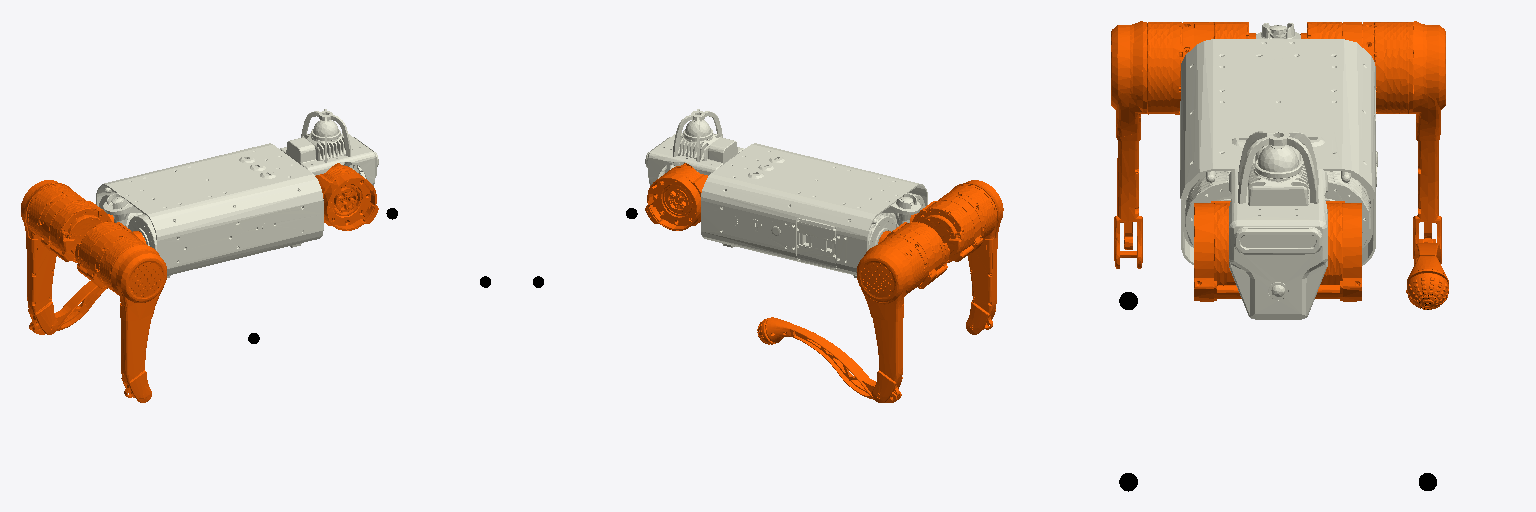
URDF robot description (E15_strict_CAD_aligned):
<?xml version='1.0' encoding='UTF-8'?>
<robot name="E15_strict_CAD_aligned">
  <mujoco>
  <compiler meshdir="../meshes" discardvisual="false"/>
  </mujoco>
  <!-- Collision primitives replaced from /home/user/quad48 on 2026-07-23; visuals, joints, masses, COMs and inertias are unchanged. -->
  <!-- Strictly aligned to E15V1&#19996;&#39118;URDF-20260714.docx and the supplied local-coordinate CAD STL files on 2026-07-17. -->
  <material name="black">
    <color rgba="0.0 0.0 0.0 1.0"/>
  </material>
  <material name="blue">
    <color rgba="0.0 0.0 0.8 1.0"/>
  </material>
  <material name="green">
    <color rgba="0.0 0.8 0.0 1.0"/>
  </material>
  <material name="grey">
    <color rgba="0.2 0.2 0.2 1.0"/>
  </material>
  <material name="silver">
    <color rgba="0.9137254901960784 0.9137254901960784 0.8470588235294118 1.0"/>
  </material>
  <material name="orange">
    <color rgba="1.0 0.4235294117647059 0.0392156862745098 1.0"/>
  </material>
  <material name="brown">
    <color rgba="0.8705882352941177 0.8117647058823529 0.7647058823529411 1.0"/>
  </material>
  <material name="red">
    <color rgba="0.8 0.0 0.0 1.0"/>
  </material>
  <material name="white">
    <color rgba="1.0 1.0 1.0 1.0"/>
  </material>
  <material name="payload_dark">
    <color rgba="0.05 0.06 0.065 0.85"/>
  </material>
  <!-- SolidWorks inertia tensors use the set reported as: about the center of mass and aligned with Coordinate System 1. -->
  <link name="world"/>
  <joint name="floating_base_joint" type="floating">
      <parent link="world"/>
      <child link="trunk"/>
  </joint>
  <link name="trunk">
    <visual>
      <origin rpy="0 0 0" xyz="0 0 0"/>
      <geometry>
        <mesh filename="../meshes/e15_trunk_with_radar.STL" scale="1 1 1"/>
      </geometry>
      <material name="silver"/>
    </visual>
    <!--Collision primitive copied from quad48; detailed E15 CAD remains visual-only.-->
    <collision>
      <origin rpy="0 0 0" xyz="0 0 0"/>
      <geometry>
        <box size="0.342 0.22 0.11"/>
        <!-- <box size="0.301 0.2 0.11"/> -->
      </geometry>
    </collision>
    <collision name="front_narrow_vertical_plate_collision">
      <origin rpy="0 0 0" xyz="0.3 0 0.01"/>
      <geometry>
        <box size="0.018 0.115 0.10"/>
      </geometry>
    </collision>
    <inertial>
      <origin rpy="0 0 0" xyz="0.007453 0.002493 0.005813"/>
      <mass value="8.155032"/>
      <inertia ixx="0.033809207" ixy="0.001824472" ixz="-0.010200345" iyy="0.161449800" iyz="0.000173116" izz="0.174466658"/>
    </inertial>
  </link>
  <!-- Visual meshes and supplied mass properties are CAD-aligned. Collision primitives remain simplified for simulation stability. -->
  <!-- Imu is fixed to the base link -->
  <joint name="imu_link_joint" type="fixed">
    <origin rpy="0. 0. 0." xyz="0. 0. 0."/>
    <parent link="trunk"/>
    <child link="imu_link"/>
  </joint>
  <!-- Imu link -->
  <link name="imu_link">
    <!-- Massless coordinate frame: the physical IMU is already included in the supplied assembly mass. -->
    <visual>
      <origin rpy="0 0 0" xyz="0 0 0"/>
      <geometry>
        <box size="0.015 0.015 0.004"/>
      </geometry>
      <material name="orange">
        <color rgba="255 108 10 255"/>
      </material>
    </visual>
  </link>
  <gazebo reference="imu_link">
    <material>Gazebo/Orange</material>
  </gazebo>
  <joint name="FR_hip_joint" type="revolute">
    <origin rpy="0 0 0" xyz="0.229200 -0.050000 0"/>
    <parent link="trunk"/>
    <child link="FR_hip"/>
    <axis xyz="1 0 0"/>
    <dynamics damping="0" friction="0"/>
    <limit effort="48" lower="-0.6108652381980153" upper="0.6108652381980153" velocity="18.4"/>
  </joint>
  <link name="FR_hip">
    <visual>
      <origin rpy="0 0 0" xyz="0 0 0"/>
      <geometry>
        <mesh filename="../meshes/e15_FR_hip.STL" scale="1 1 1"/>
      </geometry>
      <material name="orange"/>
    </visual>
    <inertial>
      <origin rpy="0 0 0" xyz="-0.003296 -0.003877 -0.000426"/>
      <mass value="0.984205"/>
      <inertia ixx="0.000762" ixy="0.000032" ixz="0.000021" iyy="0.001383" iyz="-0.000007" izz="0.000951"/>
    </inertial>
  </link>
  <joint name="FR_thigh_joint" type="revolute">
    <origin rpy="0 0 0" xyz="0 -0.110050 0"/>
    <parent link="FR_hip"/>
    <child link="FR_thigh"/>
    <axis xyz="0 -1 0"/>
    <dynamics damping="0" friction="0"/>
    <limit effort="48" lower="-3.6651914291880923" upper="0.5235987755982988" velocity="18.4"/>
  </joint>
  <link name="FR_thigh">
    <visual>
      <origin rpy="0 0 0" xyz="0 0 0"/>
      <geometry>
        <mesh filename="../meshes/e15_FR_thigh.STL" scale="1 1 1"/>
      </geometry>
      <material name="orange"/>
    </visual>
    <!-- The proximal cylinder is merged into the thigh collision, so the side-swing hip carries no separate collider. -->
    <collision>
      <origin rpy="0 1.5707963267948966 0" xyz="-0.017 0 -0.13"/>
      <geometry>
        <box size="0.14 0.0245 0.034"/>
      </geometry>
    </collision>
    <collision>
      <origin rpy="1.5707963267948966 0 0" xyz="0 0.045 0"/>
      <geometry>
        <cylinder length="0.126667" radius="0.045"/>
      </geometry>
    </collision>
    <inertial>
      <origin rpy="0 0 0" xyz="-0.002604 0.027090 -0.022630"/>
      <mass value="1.485935"/>
      <inertia ixx="0.006399" ixy="-0.000121" ixz="-0.000346" iyy="0.006318" iyz="-0.000938" izz="0.001657"/>
    </inertial>
  </link>
  <joint name="FR_calf_joint" type="revolute">
    <origin rpy="0 0 0" xyz="0 0 -0.220230"/>
    <parent link="FR_thigh"/>
    <child link="FR_calf"/>
    <axis xyz="0 -1 0"/>
    <dynamics damping="0" friction="0"/>
    <limit effort="48" lower="0.7853981633974483" upper="2.7925268031909272" velocity="18.4"/>
  </joint>
  <link name="FR_calf">
    <visual>
      <origin rpy="0 0 0" xyz="0 0 0"/>
      <geometry>
        <mesh filename="../meshes/e15_FR_calf.STL" scale="1 1 1"/>
      </geometry>
      <material name="orange"/>
    </visual>
    <!-- Shortened calf collision, tilted 5 degrees from vertical. -->
    <collision>
      <origin rpy="0 1.4835298641951802 0" xyz="-0.01 0 -0.099619"/>
      <geometry>
        <box size="0.200 0.016 0.016"/>
      </geometry>
    </collision>
    <inertial>
      <!-- Contact-fix: 0.020000 kg is split from the CAD calf assembly into the foot body. Calf+foot aggregate mass, COM and inertia remain equal to the original CAD calf assembly. -->
      <origin rpy="0 0 0" xyz="0.0 -0.000045191 -0.101256351"/>
      <mass value="0.195677"/>
      <inertia ixx="0.00165630335" ixy="-0.00000001182" ixz="0.00023249878" iyy="0.00169653135" iyz="0.00000089500" izz="0.00006002793"/>
    </inertial>
  </link>
  <joint name="FR_foot_fixed" type="fixed" dont_collapse="true">
    <origin rpy="0 0 0" xyz="0 0 -0.229300"/>
    <parent link="FR_calf"/>
    <child link="FR_foot"/>
  </joint>
  <link name="FR_foot">
    <!-- Quad48-compatible contact body: frame at sphere center, explicit mass and inertia for force-sensor/contact semantics. -->
    <visual>
      <origin rpy="0 0 0" xyz="0 0 0"/>
      <geometry>
        <sphere radius="0.010000"/>
      </geometry>
      <material name="black"/>
    </visual>
    <collision>
      <origin rpy="0 0 0" xyz="0 0 0"/>
      <geometry>
        <sphere radius="0.02"/>
      </geometry>
    </collision>
    <inertial>
      <origin rpy="0 0 0" xyz="0 0 0"/>
      <mass value="0.020000"/>
      <inertia ixx="0.0000032" ixy="0.0" ixz="0.0" iyy="0.0000032" iyz="0.0" izz="0.0000032"/>
    </inertial>
  </link>
  <joint name="FL_hip_joint" type="revolute">
    <origin rpy="0 0 0" xyz="0.229200 0.050000 0"/>
    <parent link="trunk"/>
    <child link="FL_hip"/>
    <axis xyz="1 0 0"/>
    <dynamics damping="0" friction="0"/>
    <limit effort="48" lower="-0.6108652381980153" upper="0.6108652381980153" velocity="18.4"/>
  </joint>
  <link name="FL_hip">
    <visual>
      <origin rpy="0 0 0" xyz="0 0 0"/>
      <geometry>
        <mesh filename="../meshes/e15_FL_hip.STL" scale="1 1 1"/>
      </geometry>
      <material name="orange"/>
    </visual>
    <inertial>
      <origin rpy="0 0 0" xyz="-0.003373 0.003931 -0.000643"/>
      <mass value="0.984205"/>
      <inertia ixx="0.000760" ixy="-0.000033" ixz="0.000022" iyy="0.001382" iyz="0.000007" izz="0.000952"/>
    </inertial>
  </link>
  <joint name="FL_thigh_joint" type="revolute">
    <origin rpy="0 0 0" xyz="0 0.110050 0"/>
    <parent link="FL_hip"/>
    <child link="FL_thigh"/>
    <axis xyz="0 -1 0"/>
    <dynamics damping="0" friction="0"/>
    <limit effort="48" lower="-3.6651914291880923" upper="0.5235987755982988" velocity="18.4"/>
  </joint>
  <link name="FL_thigh">
    <visual>
      <origin rpy="0 0 0" xyz="0 0 0"/>
      <geometry>
        <mesh filename="../meshes/e15_FL_thigh.STL" scale="1 1 1"/>
      </geometry>
      <material name="orange"/>
    </visual>
    <!-- The proximal cylinder is merged into the thigh collision, so the side-swing hip carries no separate collider. -->
    <collision>
      <origin rpy="0 1.5707963267948966 0" xyz="-0.017 0 -0.13"/>
      <geometry>
        <box size="0.14 0.0245 0.034"/>
      </geometry>
    </collision>
    <collision>
      <origin rpy="1.5707963267948966 0 0" xyz="0 -0.045 0"/>
      <geometry>
        <cylinder length="0.126667" radius="0.045"/>
      </geometry>
    </collision>
    <inertial>
      <origin rpy="0 0 0" xyz="-0.001887 -0.027031 -0.025342"/>
      <mass value="1.487317"/>
      <inertia ixx="0.006512" ixy="0.000119" ixz="-0.000380" iyy="0.006424" iyz="0.000952" izz="0.001657"/>
    </inertial>
  </link>
  <joint name="FL_calf_joint" type="revolute">
    <origin rpy="0 0 0" xyz="0 0 -0.220230"/>
    <parent link="FL_thigh"/>
    <child link="FL_calf"/>
    <axis xyz="0 -1 0"/>
    <dynamics damping="0" friction="0"/>
    <limit effort="48" lower="0.7853981633974483" upper="2.7925268031909272" velocity="18.4"/>
  </joint>
  <link name="FL_calf">
    <visual>
      <origin rpy="0 0 0" xyz="0 0 0"/>
      <geometry>
        <mesh filename="../meshes/e15_FL_calf.STL" scale="1 1 1"/>
      </geometry>
      <material name="orange"/>
    </visual>
    <!-- Shortened calf collision, tilted 5 degrees from vertical. -->
    <collision>
      <origin rpy="0 1.4835298641951802 0" xyz="-0.01 0 -0.099619"/>
      <geometry>
        <box size="0.200 0.016 0.016"/>
      </geometry>
    </collision>
    <inertial>
      <!-- Contact-fix: 0.020000 kg is split from the CAD calf assembly into the foot body. Calf+foot aggregate mass, COM and inertia remain equal to the original CAD calf assembly. -->
      <origin rpy="0 0 0" xyz="0.0 -0.000045191 -0.101256351"/>
      <mass value="0.195677"/>
      <inertia ixx="0.00165630335" ixy="-0.00000001182" ixz="0.00023249878" iyy="0.00169653135" iyz="0.00000089500" izz="0.00006002793"/>
    </inertial>
  </link>
  <joint name="FL_foot_fixed" type="fixed" dont_collapse="true">
    <origin rpy="0 0 0" xyz="0 0 -0.229300"/>
    <parent link="FL_calf"/>
    <child link="FL_foot"/>
  </joint>
  <link name="FL_foot">
    <!-- Quad48-compatible contact body: frame at sphere center, explicit mass and inertia for force-sensor/contact semantics. -->
    <visual>
      <origin rpy="0 0 0" xyz="0 0 0"/>
      <geometry>
        <sphere radius="0.010000"/>
      </geometry>
      <material name="black"/>
    </visual>
    <collision>
      <origin rpy="0 0 0" xyz="0 0 0"/>
      <geometry>
        <sphere radius="0.02"/>
      </geometry>
    </collision>
    <inertial>
      <origin rpy="0 0 0" xyz="0 0 0"/>
      <mass value="0.020000"/>
      <inertia ixx="0.0000032" ixy="0.0" ixz="0.0" iyy="0.0000032" iyz="0.0" izz="0.0000032"/>
    </inertial>
  </link>
  <joint name="RR_hip_joint" type="revolute">
    <origin rpy="0 0 0" xyz="-0.229200 -0.050000 0"/>
    <parent link="trunk"/>
    <child link="RR_hip"/>
    <axis xyz="1 0 0"/>
    <dynamics damping="0" friction="0"/>
    <limit effort="48" lower="-0.6108652381980153" upper="0.6108652381980153" velocity="18.4"/>
  </joint>
  <link name="RR_hip">
    <visual>
      <origin rpy="0 0 0" xyz="0 0 0"/>
      <geometry>
        <mesh filename="../meshes/e15_RR_hip.STL" scale="1 1 1"/>
      </geometry>
      <material name="orange"/>
    </visual>
    <inertial>
      <origin rpy="0 0 0" xyz="0.003373 -0.003931 -0.000643"/>
      <mass value="0.984205"/>
      <inertia ixx="0.000760" ixy="-0.000033" ixz="-0.000022" iyy="0.001382" iyz="-0.000007" izz="0.000952"/>
    </inertial>
  </link>
  <joint name="RR_thigh_joint" type="revolute">
    <origin rpy="0 0 0" xyz="0 -0.110050 0"/>
    <parent link="RR_hip"/>
    <child link="RR_thigh"/>
    <axis xyz="0 -1 0"/>
    <dynamics damping="0" friction="0"/>
    <limit effort="48" lower="-3.6651914291880923" upper="0.5235987755982988" velocity="18.4"/>
  </joint>
  <link name="RR_thigh">
    <visual>
      <origin rpy="0 0 0" xyz="0 0 0"/>
      <geometry>
        <mesh filename="../meshes/e15_RR_thigh.STL" scale="1 1 1"/>
      </geometry>
      <material name="orange"/>
    </visual>
    <!-- The proximal cylinder is merged into the thigh collision, so the side-swing hip carries no separate collider. -->
    <collision>
      <origin rpy="0 1.5707963267948966 0" xyz="-0.017 0 -0.13"/>
      <geometry>
        <box size="0.14 0.0245 0.034"/>
      </geometry>
    </collision>
    <collision>
      <origin rpy="1.5707963267948966 0 0" xyz="0 0.045 0"/>
      <geometry>
        <cylinder length="0.126667" radius="0.045"/>
      </geometry>
    </collision>
    <inertial>
      <origin rpy="0 0 0" xyz="-0.002604 0.027090 -0.022630"/>
      <mass value="1.485935"/>
      <inertia ixx="0.006399" ixy="-0.000121" ixz="-0.000346" iyy="0.006318" iyz="-0.000938" izz="0.001657"/>
    </inertial>
  </link>
  <joint name="RR_calf_joint" type="revolute">
    <origin rpy="0 0 0" xyz="0 0 -0.220230"/>
    <parent link="RR_thigh"/>
    <child link="RR_calf"/>
    <axis xyz="0 -1 0"/>
    <dynamics damping="0" friction="0"/>
    <limit effort="48" lower="0.7853981633974483" upper="2.7925268031909272" velocity="18.4"/>
  </joint>
  <link name="RR_calf">
    <visual>
      <origin rpy="0 0 0" xyz="0 0 0"/>
      <geometry>
        <mesh filename="../meshes/e15_RR_calf.STL" scale="1 1 1"/>
      </geometry>
      <material name="orange"/>
    </visual>
    <!-- Shortened calf collision, tilted 5 degrees from vertical. -->
    <collision>
      <origin rpy="0 1.4835298641951802 0" xyz="-0.01 0 -0.099619"/>
      <geometry>
        <box size="0.200 0.016 0.016"/>
      </geometry>
    </collision>
    <inertial>
      <!-- Contact-fix: 0.020000 kg is split from the CAD calf assembly into the foot body. Calf+foot aggregate mass, COM and inertia remain equal to the original CAD calf assembly. -->
      <origin rpy="0 0 0" xyz="0.0 -0.000045191 -0.101256351"/>
      <mass value="0.195677"/>
      <inertia ixx="0.00165630335" ixy="-0.00000001182" ixz="0.00023249878" iyy="0.00169653135" iyz="0.00000089500" izz="0.00006002793"/>
    </inertial>
  </link>
  <joint name="RR_foot_fixed" type="fixed" dont_collapse="true">
    <origin rpy="0 0 0" xyz="0 0 -0.229300"/>
    <parent link="RR_calf"/>
    <child link="RR_foot"/>
  </joint>
  <link name="RR_foot">
    <!-- Quad48-compatible contact body: frame at sphere center, explicit mass and inertia for force-sensor/contact semantics. -->
    <visual>
      <origin rpy="0 0 0" xyz="0 0 0"/>
      <geometry>
        <sphere radius="0.010000"/>
      </geometry>
      <material name="black"/>
    </visual>
    <collision>
      <origin rpy="0 0 0" xyz="0 0 0"/>
      <geometry>
        <sphere radius="0.02"/>
      </geometry>
    </collision>
    <inertial>
      <origin rpy="0 0 0" xyz="0 0 0"/>
      <mass value="0.020000"/>
      <inertia ixx="0.0000032" ixy="0.0" ixz="0.0" iyy="0.0000032" iyz="0.0" izz="0.0000032"/>
    </inertial>
  </link>
  <joint name="RL_hip_joint" type="revolute">
    <origin rpy="0 0 0" xyz="-0.229200 0.050000 0"/>
    <parent link="trunk"/>
    <child link="RL_hip"/>
    <axis xyz="1 0 0"/>
    <dynamics damping="0" friction="0"/>
    <limit effort="48" lower="-0.6108652381980153" upper="0.6108652381980153" velocity="18.4"/>
  </joint>
  <link name="RL_hip">
    <visual>
      <origin rpy="0 0 0" xyz="0 0 0"/>
      <geometry>
        <mesh filename="../meshes/e15_RL_hip.STL" scale="1 1 1"/>
      </geometry>
      <material name="orange"/>
    </visual>
    <inertial>
      <origin rpy="0 0 0" xyz="0.003296 0.003931 -0.000426"/>
      <mass value="0.984205"/>
      <inertia ixx="0.000762" ixy="0.000032" ixz="-0.000021" iyy="0.001383" iyz="0.000007" izz="0.000951"/>
    </inertial>
  </link>
  <joint name="RL_thigh_joint" type="revolute">
    <origin rpy="0 0 0" xyz="0 0.110050 0"/>
    <parent link="RL_hip"/>
    <child link="RL_thigh"/>
    <axis xyz="0 -1 0"/>
    <dynamics damping="0" friction="0"/>
    <limit effort="48" lower="-3.6651914291880923" upper="0.5235987755982988" velocity="18.4"/>
  </joint>
  <link name="RL_thigh">
    <visual>
      <origin rpy="0 0 0" xyz="0 0 0"/>
      <geometry>
        <mesh filename="../meshes/e15_RL_thigh.STL" scale="1 1 1"/>
      </geometry>
      <material name="orange"/>
    </visual>
    <!-- The proximal cylinder is merged into the thigh collision, so the side-swing hip carries no separate collider. -->
    <collision>
      <origin rpy="0 1.5707963267948966 0" xyz="-0.017 0 -0.13"/>
      <geometry>
        <box size="0.14 0.0245 0.034"/>
      </geometry>
    </collision>
    <collision>
      <origin rpy="1.5707963267948966 0 0" xyz="0 -0.045 0"/>
      <geometry>
        <cylinder length="0.126667" radius="0.045"/>
      </geometry>
    </collision>
    <inertial>
      <origin rpy="0 0 0" xyz="-0.001887 -0.027031 -0.025342"/>
      <mass value="1.487317"/>
      <inertia ixx="0.006512" ixy="0.000119" ixz="-0.000380" iyy="0.006424" iyz="0.000952" izz="0.001657"/>
    </inertial>
  </link>
  <joint name="RL_calf_joint" type="revolute">
    <origin rpy="0 0 0" xyz="0 0 -0.220230"/>
    <parent link="RL_thigh"/>
    <child link="RL_calf"/>
    <axis xyz="0 -1 0"/>
    <dynamics damping="0" friction="0"/>
    <limit effort="48" lower="0.7853981633974483" upper="2.7925268031909272" velocity="18.4"/>
  </joint>
  <link name="RL_calf">
    <visual>
      <origin rpy="0 0 0" xyz="0 0 0"/>
      <geometry>
        <mesh filename="../meshes/e15_RL_calf.STL" scale="1 1 1"/>
      </geometry>
      <material name="orange"/>
    </visual>
    <!-- Shortened calf collision, tilted 5 degrees from vertical. -->
    <collision>
      <origin rpy="0 1.4835298641951802 0" xyz="-0.01 0 -0.099619"/>
      <geometry>
        <box size="0.200 0.016 0.016"/>
      </geometry>
    </collision>
    <inertial>
      <!-- Contact-fix: 0.020000 kg is split from the CAD calf assembly into the foot body. Calf+foot aggregate mass, COM and inertia remain equal to the original CAD calf assembly. -->
      <origin rpy="0 0 0" xyz="0.0 -0.000045191 -0.101256351"/>
      <mass value="0.195677"/>
      <inertia ixx="0.00165630335" ixy="-0.00000001182" ixz="0.00023249878" iyy="0.00169653135" iyz="0.00000089500" izz="0.00006002793"/>
    </inertial>
  </link>
  <joint name="RL_foot_fixed" type="fixed" dont_collapse="true">
    <origin rpy="0 0 0" xyz="0 0 -0.229300"/>
    <parent link="RL_calf"/>
    <child link="RL_foot"/>
  </joint>
  <link name="RL_foot">
    <!-- Quad48-compatible contact body: frame at sphere center, explicit mass and inertia for force-sensor/contact semantics. -->
    <visual>
      <origin rpy="0 0 0" xyz="0 0 0"/>
      <geometry>
        <sphere radius="0.010000"/>
      </geometry>
      <material name="black"/>
    </visual>
    <collision>
      <origin rpy="0 0 0" xyz="0 0 0"/>
      <geometry>
        <sphere radius="0.02"/>
      </geometry>
    </collision>
    <inertial>
      <origin rpy="0 0 0" xyz="0 0 0"/>
      <mass value="0.020000"/>
      <inertia ixx="0.0000032" ixy="0.0" ixz="0.0" iyy="0.0000032" iyz="0.0" izz="0.0000032"/>
    </inertial>
  </link>
</robot>

--- Render facts (derived) ---
3 views of the same robot in one strip: view 1: azimuth 30°, elevation 25°; view 2: azimuth 150°, elevation 25°; view 3: azimuth 270°, elevation 25° (orthographic).
Robot: E15_strict_CAD_aligned — 19 links, 18 joints (12 revolute, 5 fixed, 1 floating); root link world; default pose: all joints at 0 but 4 set to mid-range because 0 is outside their limits (FR_calf_joint = 1.79, FL_calf_joint = 1.79, RR_calf_joint = 1.79, RL_calf_joint = 1.79).
Visible links, largest first — view 1: trunk, RR_thigh, RL_thigh, FR_hip, RL_hip, RR_hip, RL_calf; view 2: trunk, RL_thigh, RR_thigh, FL_hip, RR_hip, RL_calf, RL_hip; view 3: trunk, RR_thigh, RL_thigh, FR_hip, FL_hip, RL_calf, RR_hip, RL_hip.
Boxes of the visible links, x1,y1,x2,y2 form: trunk: (96, 109, 378, 277); RR_thigh: (96, 234, 166, 402); RL_thigh: (21, 180, 83, 334); FR_hip: (315, 165, 378, 230); RL_hip: (41, 196, 113, 262); RR_hip: (75, 222, 145, 288); RL_calf: (29, 281, 107, 334); trunk: (645, 109, 927, 277); RL_thigh: (857, 234, 928, 402); RR_thigh: (942, 180, 1003, 334); FL_hip: (645, 165, 707, 230); RR_hip: (910, 196, 982, 262); RL_calf: (757, 317, 901, 402); RL_hip: (878, 222, 949, 288); trunk: (1180, 23, 1377, 319); RR_thigh: (1111, 21, 1193, 268); RL_thigh: (1362, 21, 1445, 264); FR_hip: (1194, 201, 1241, 301); FL_hip: (1315, 201, 1361, 301); RL_calf: (1406, 239, 1448, 309); RR_hip: (1194, 22, 1255, 46); RL_hip: (1300, 22, 1361, 46).
Size in the robot's own frame: 0.7457 by 0.3626 by 0.3705 metres.
8 mesh visuals loaded from 13 distinct referenced files (8 binary STL); not drawn: 5 (reference not matched to a file when rendering).
